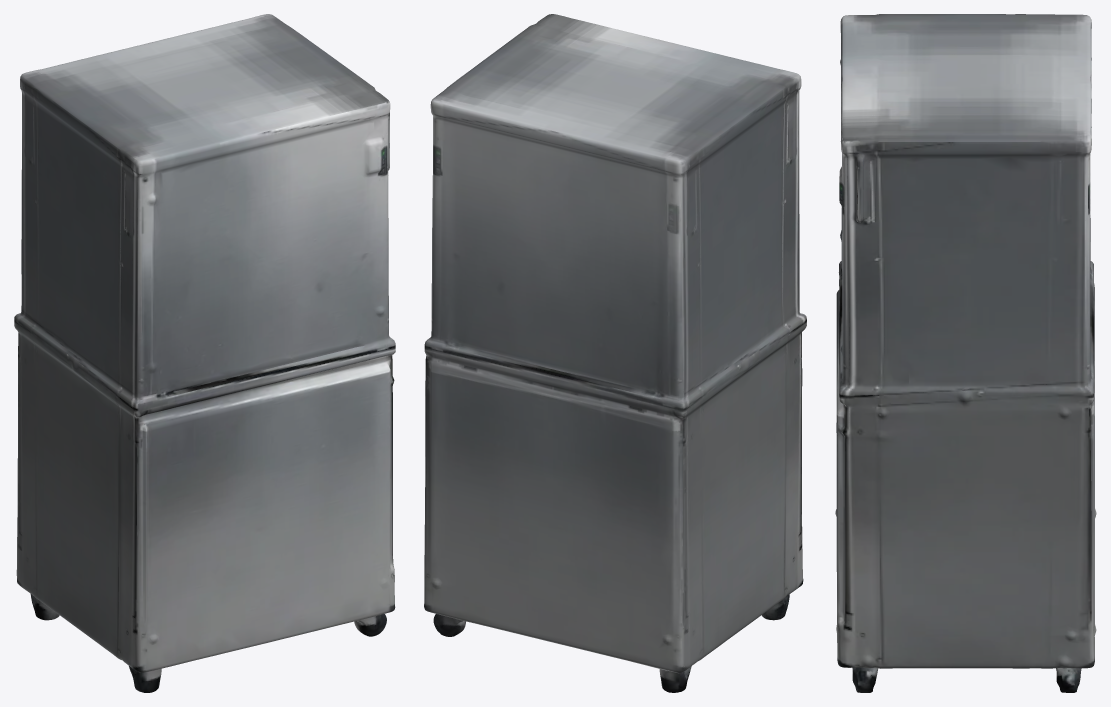
The model's file is ice-machine.glb.
3 renders of one model, left to right at view 1: azimuth 30°, elevation 25°; view 2: azimuth 150°, elevation 25°; view 3: azimuth 270°, elevation 25°, orthographic. The views are drawn at different scales.
Parts seen in each view (by area): view 1: cowninja-ice-machine; view 2: cowninja-ice-machine; view 3: cowninja-ice-machine.
Boxes of the visible parts, x1,y1,x2,y2 form: cowninja-ice-machine: (14,14,395,692); cowninja-ice-machine: (424,14,806,692); cowninja-ice-machine: (835,14,1096,692).
Bounding box in the file's own units: 0.6155 × 1.2 × 0.5098.
1 material, 1 textured.
